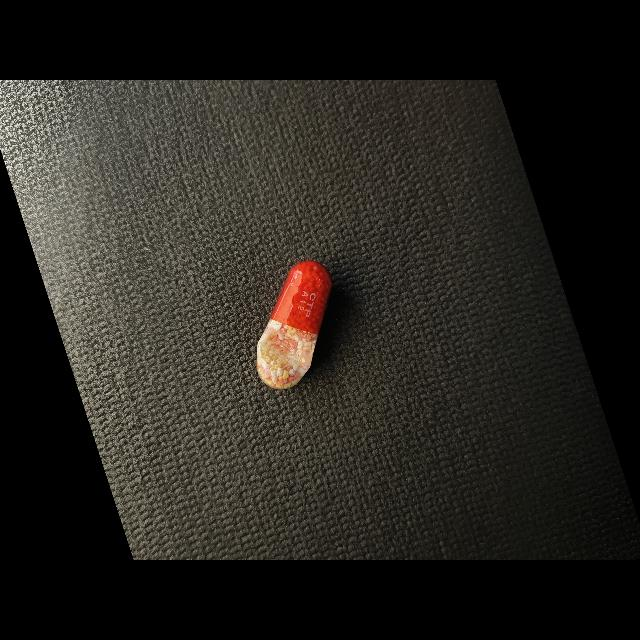Defective Capsule: (256, 261, 332, 389)
